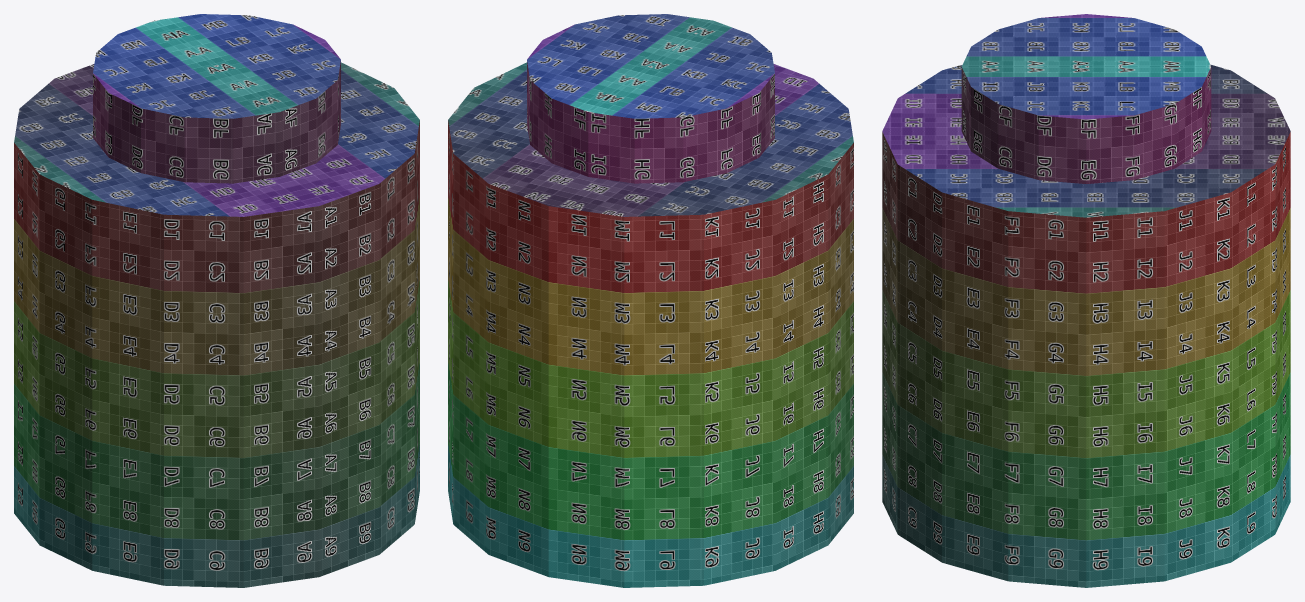
The model's file is energy_battery.fbx.
3 views of the same model, side by side, from view 1: azimuth 30°, elevation 25°; view 2: azimuth 150°, elevation 25°; view 3: azimuth 270°, elevation 25° (orthographic).
Parts seen in each view (by area): view 1: energy battery; view 2: energy battery; view 3: energy battery.
Boxes of the visible parts, x1,y1,x2,y2 form: energy battery: (14,14,419,587); energy battery: (448,14,853,587); energy battery: (882,14,1290,587).
Size of the model in its own units: 200 by 200 by 235.
1 material, 1 textured.
